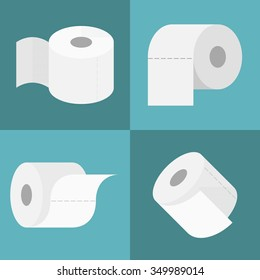Tissue: (145, 22, 244, 110), (151, 150, 241, 240)
